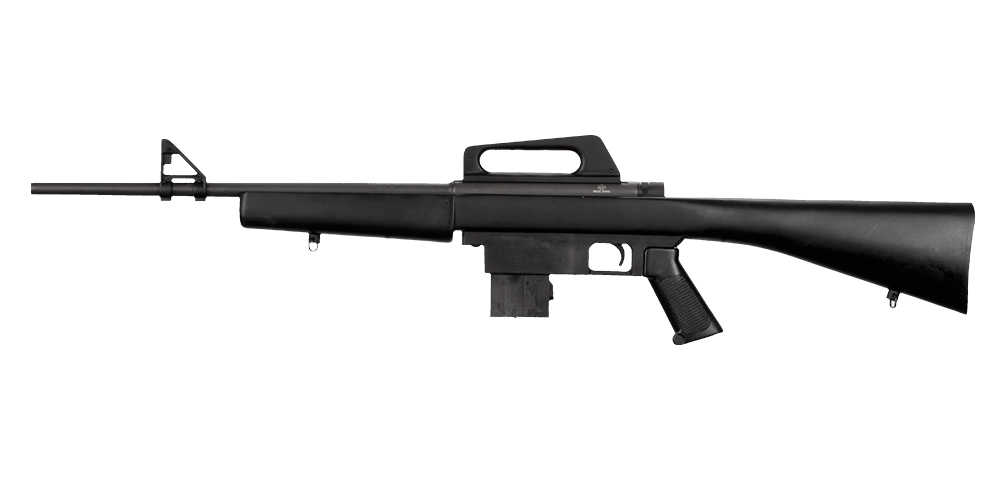Gun: (153, 102, 718, 348)
